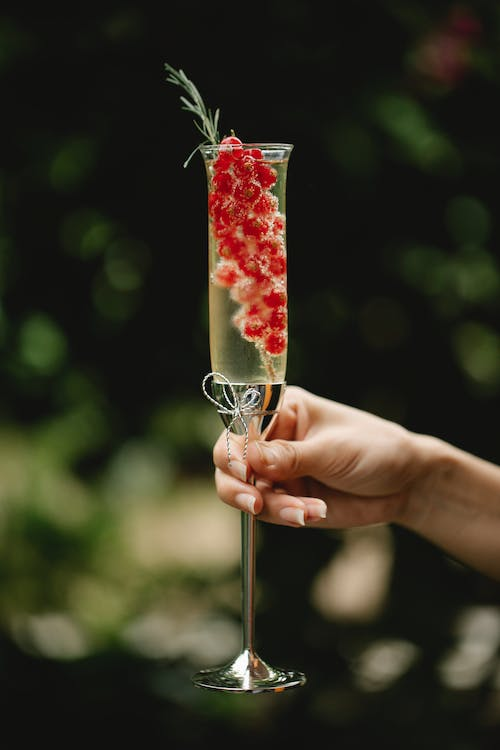alcohol: (188, 141, 308, 695)
